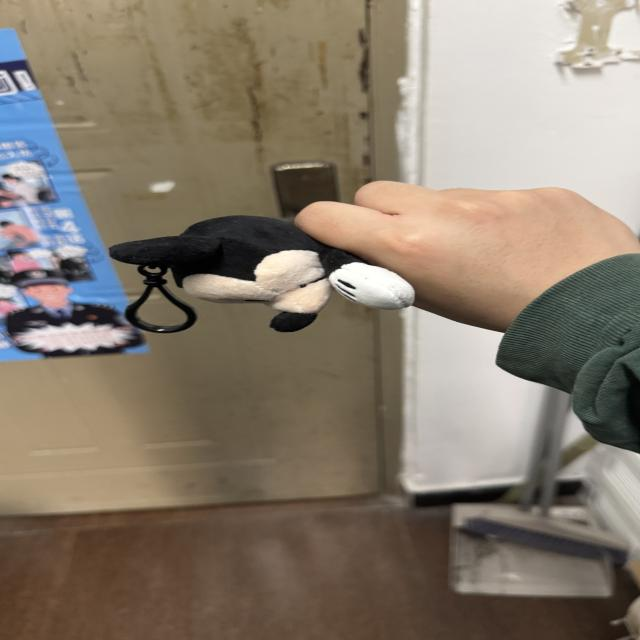mickey: (110, 216, 414, 331)
